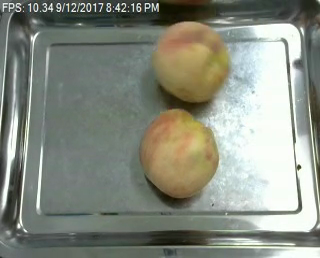Peach: (139, 107, 220, 198), (153, 21, 229, 101)
